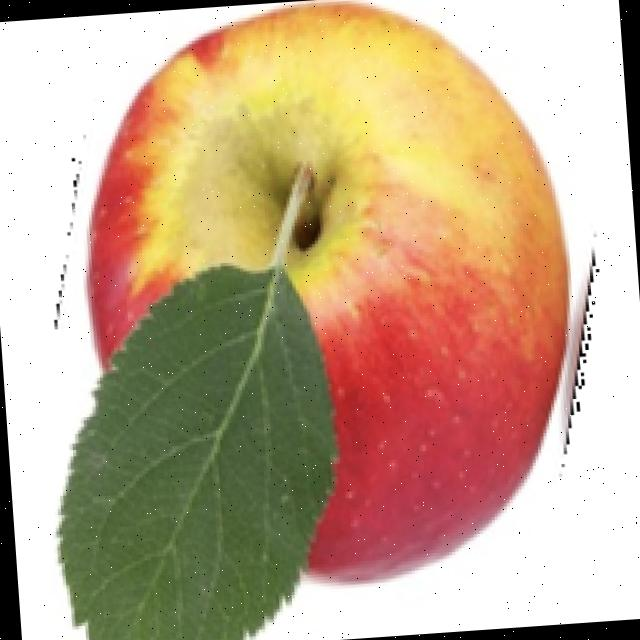apple: (49, 0, 599, 640)
